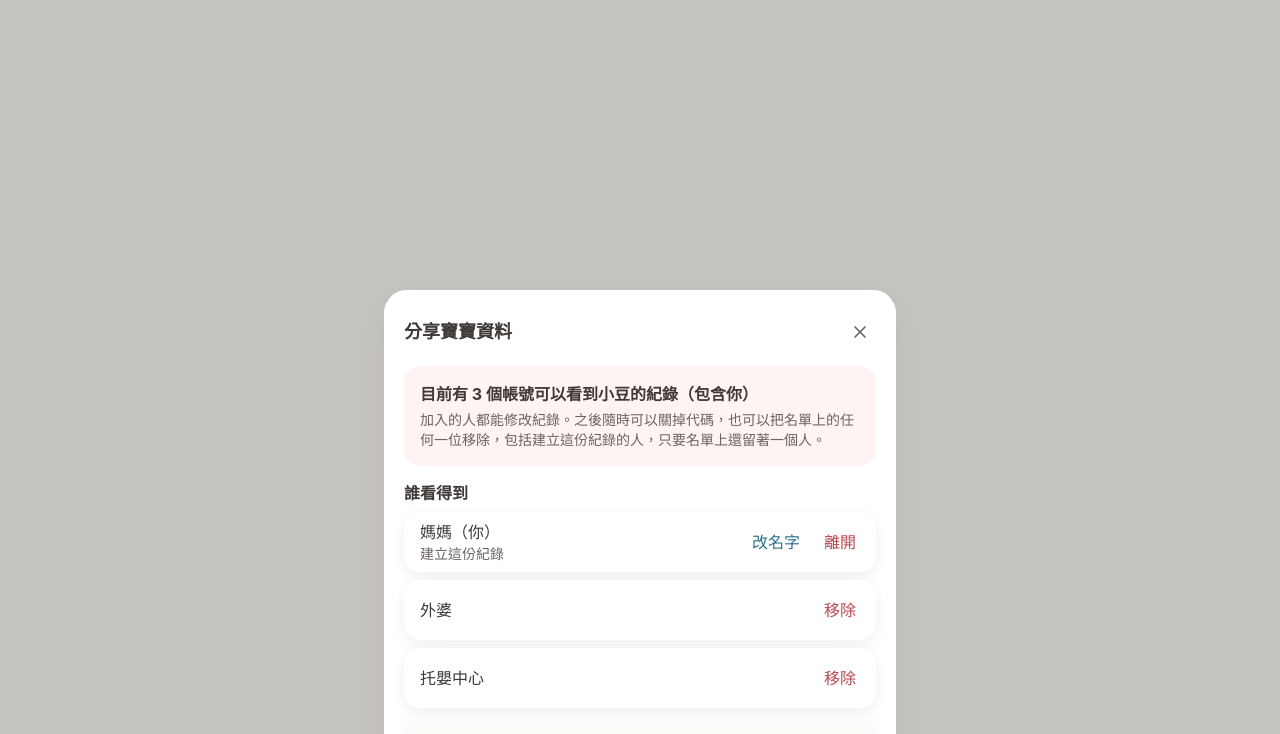
Test: 名單：看得到是誰，一次移除一個 › 寫入被拒時留在原地、只講一次，名單上還是那三個人
What coordinates should you click on to do the following:
click the button with aria-label "移除外婆"
I would click on:
 (840, 610)
Its box is [812, 588, 868, 632].
(page scrolled)
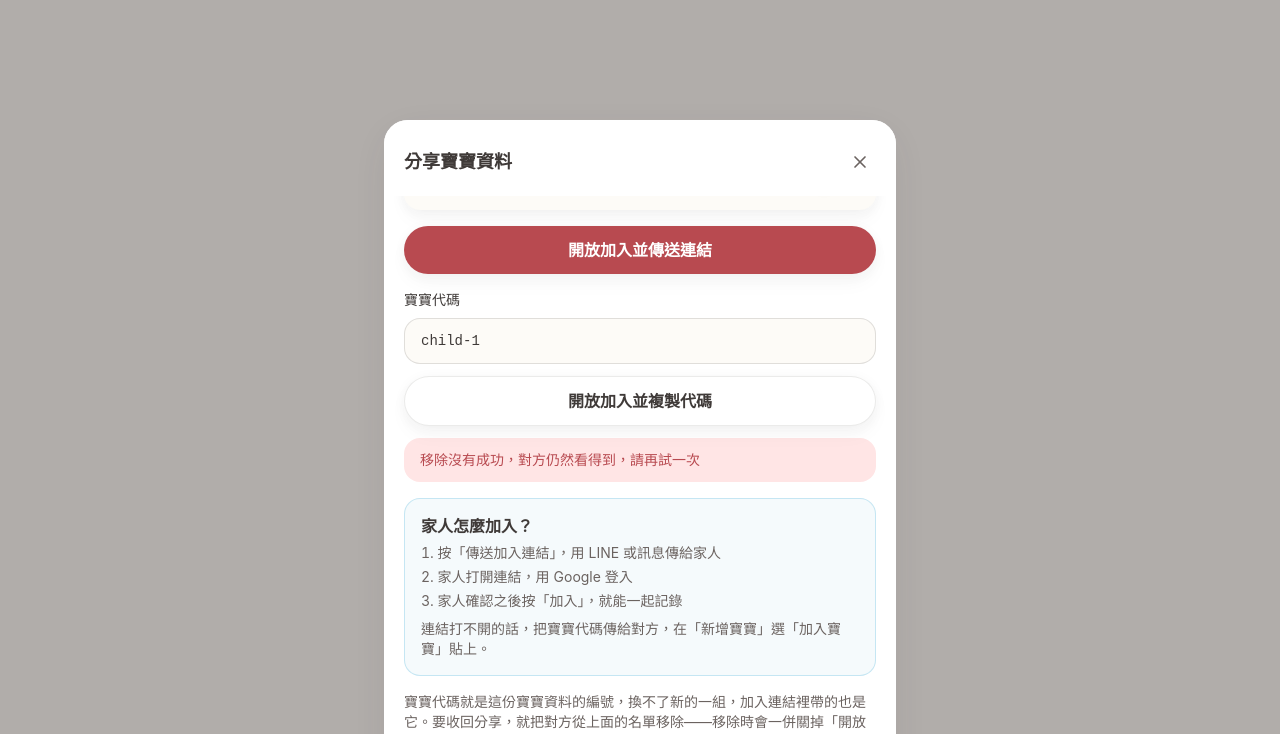
Expected: the number of messages is 1, [404, 438, 876, 482]
Expected: the message shows "移除沒有成功，對方仍然看得到", [420, 451, 700, 468]
